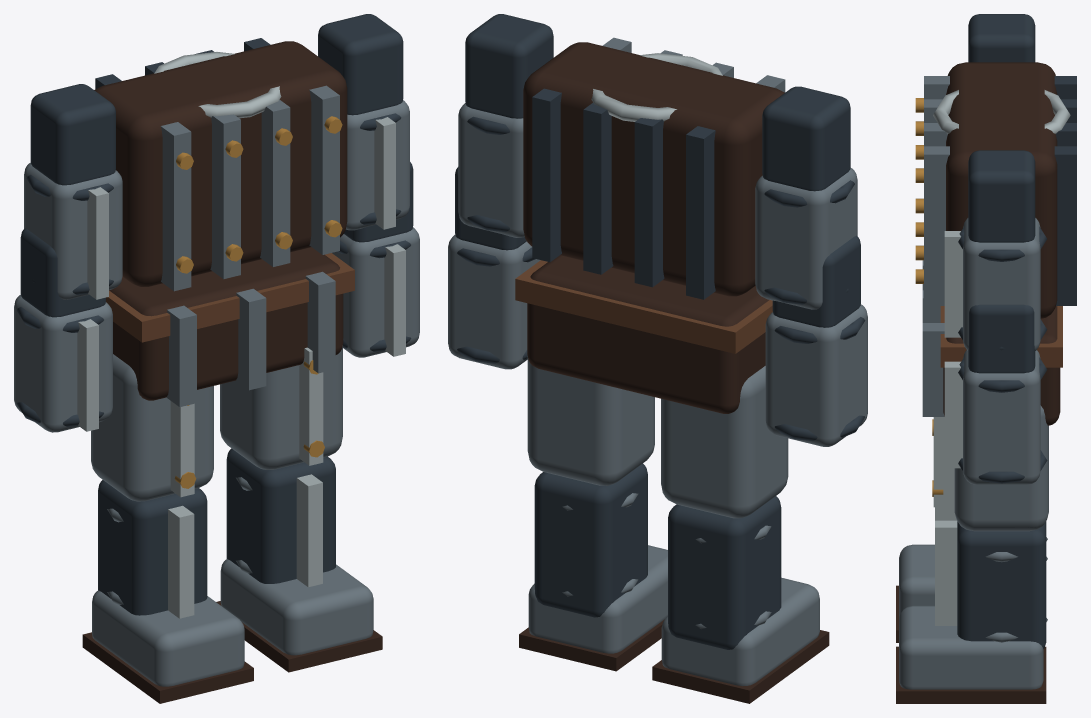
The model's file is armor-splint.glb.
The picture shows the model from 3 angles, left to right: view 1: azimuth 30°, elevation 25°; view 2: azimuth 150°, elevation 25°; view 3: azimuth 270°, elevation 25°; orthographic projection. The views are drawn at different scales.
Parts seen in each view (by area): view 1: splint-padded-base, vambrace-shell (×4), sabaton-shell (×2), greave-shell (×2), vambrace-elbow-joint (×4), cuisses-shell (×2), splint-chest-strip-front (×4), splint-waist-base, vambrace-ridge (×4), splint-waist-strip (×3), greave-ridge (×2), sabaton-sole (×2) (+3 smaller); view 2: vambrace-shell (×4), splint-padded-base, greave-shell (×2), cuisses-shell (×2), splint-waist-base, vambrace-elbow-joint (×4), splint-chest-strip-back (×4), sabaton-shell (×2), splint-waist-belt, sabaton-sole (×2), vambrace-cuff (×3), splint-neck-ring; view 3: splint-padded-base, vambrace-elbow-joint (×3), vambrace-shell (×2), sabaton-shell (×2), greave-shell, cuisses-shell, splint-chest-strip-front (×4), splint-chest-strip-back (×3), vambrace-ridge (×2), greave-ridge (×2), sabaton-sole, splint-waist-strip (×2) (+5 smaller).
Boxes of the visible parts, x1=… form: splint-padded-base: x1=94, y1=41, x2=347, y2=286; vambrace-shell (×4): x1=14, y1=100, x2=419, y2=432; sabaton-shell (×2): x1=92, y1=559, x2=373, y2=686; greave-shell (×2): x1=98, y1=448, x2=335, y2=615; vambrace-elbow-joint (×4): x1=20, y1=14, x2=413, y2=317; cuisses-shell (×2): x1=91, y1=345, x2=342, y2=501; splint-chest-strip-front (×4): x1=160, y1=85, x2=339, y2=291; splint-waist-base: x1=109, y1=247, x2=343, y2=400; vambrace-ridge (×4): x1=77, y1=117, x2=405, y2=431; splint-waist-strip (×3): x1=167, y1=271, x2=335, y2=406; greave-ridge (×2): x1=168, y1=474, x2=322, y2=618; sabaton-sole (×2): x1=82, y1=601, x2=382, y2=703; vambrace-shell (×4): x1=448, y1=103, x2=867, y2=446; splint-padded-base: x1=523, y1=42, x2=784, y2=296; greave-shell (×2): x1=534, y1=463, x2=781, y2=649; cuisses-shell (×2): x1=527, y1=356, x2=788, y2=518; splint-waist-base: x1=527, y1=255, x2=769, y2=413; vambrace-elbow-joint (×4): x1=455, y1=14, x2=860, y2=327; splint-chest-strip-back (×4): x1=532, y1=88, x2=715, y2=299; sabaton-shell (×2): x1=528, y1=545, x2=819, y2=686; splint-waist-belt: x1=515, y1=260, x2=772, y2=353; sabaton-sole (×2): x1=519, y1=619, x2=829, y2=703; vambrace-cuff (×3): x1=764, y1=180, x2=865, y2=441; splint-neck-ring: x1=591, y1=53, x2=722, y2=121; splint-padded-base: x1=946, y1=62, x2=1057, y2=318; vambrace-elbow-joint (×3): x1=968, y1=14, x2=1035, y2=373; vambrace-shell (×2): x1=963, y1=218, x2=1040, y2=484; sabaton-shell (×2): x1=899, y1=544, x2=1043, y2=689; greave-shell: x1=957, y1=521, x2=1046, y2=648; cuisses-shell: x1=954, y1=405, x2=1048, y2=531; splint-chest-strip-front (×4): x1=924, y1=76, x2=949, y2=305; splint-chest-strip-back (×3): x1=1054, y1=76, x2=1076, y2=305; vambrace-ridge (×2): x1=944, y1=231, x2=962, y2=468; greave-ridge (×2): x1=935, y1=468, x2=957, y2=625; sabaton-sole: x1=896, y1=646, x2=1046, y2=703; splint-waist-strip (×2): x1=922, y1=290, x2=944, y2=416.
Bounding box in the file's own units: 0.784 × 1.11 × 0.325.
